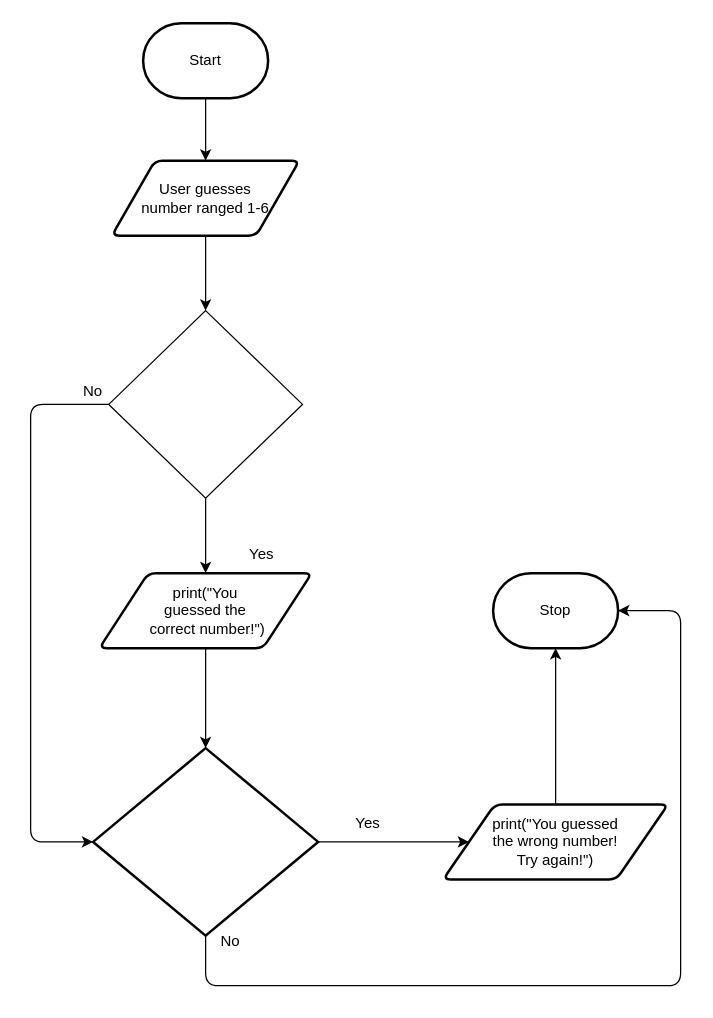
This 713x1018 diagram has some shape labels left out. The shapes that lost their labels are listed below. From the top down, each one's centre as x and y in pixels, then its label:
(205,403): if user_guess == constants. CORRECT_ANSWER:
(205,841): if user_guess != constants. CORRECT_ANSWER:
